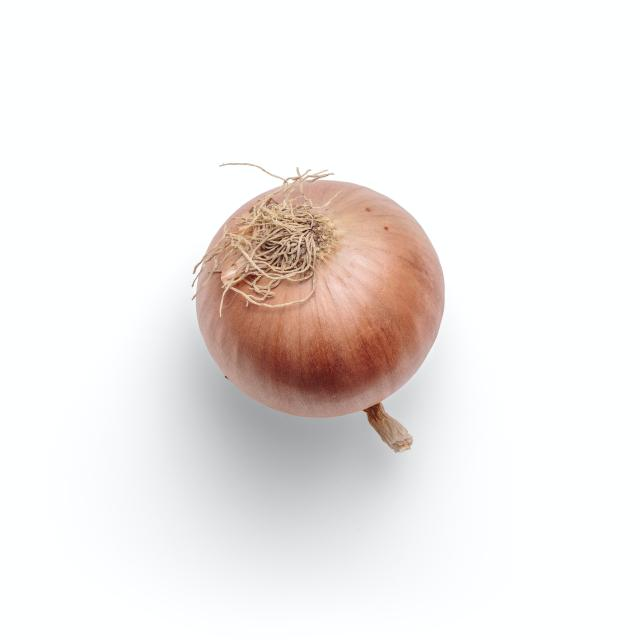onion: (195, 178, 446, 456)
